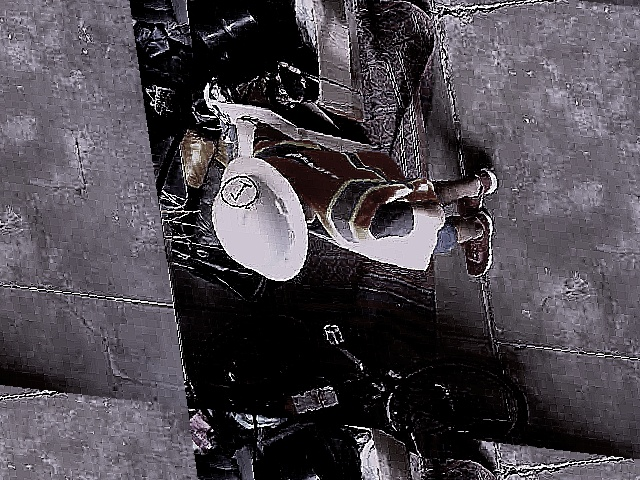one: (217, 174, 258, 208)
